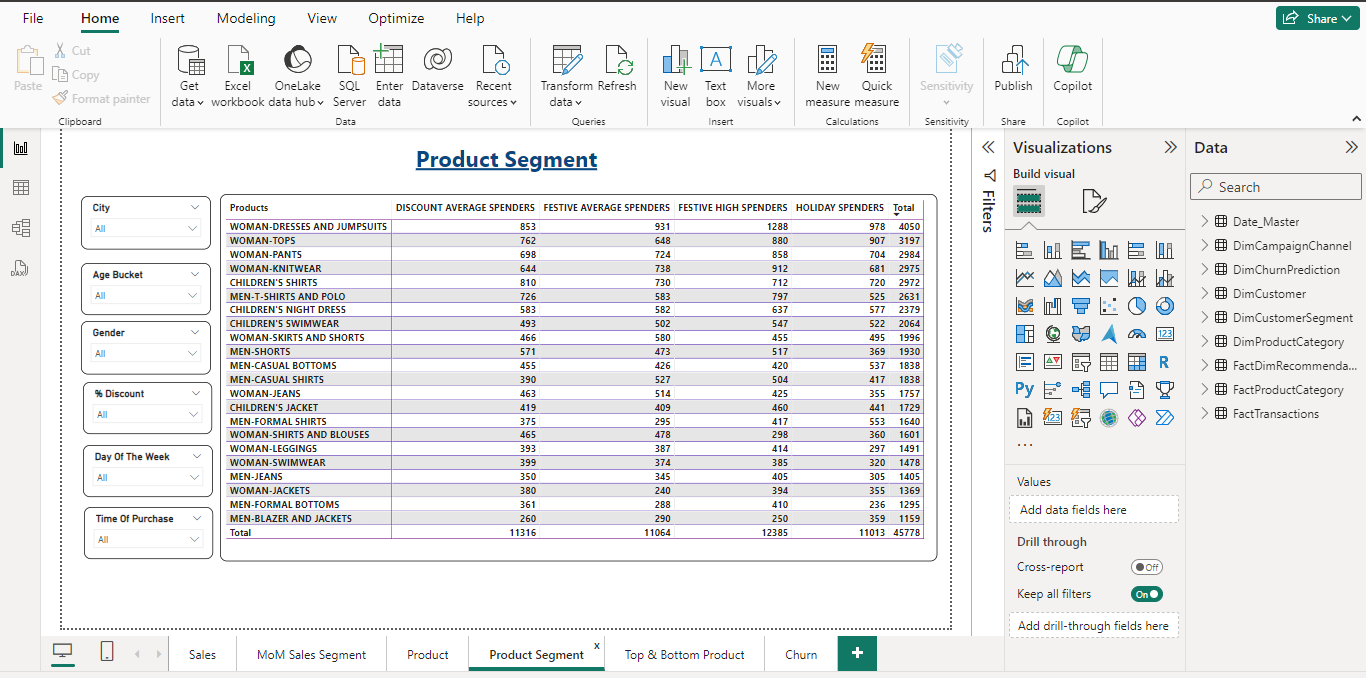

Layout of this report page (visuals, bound fields, positions):
{"tool":"powerbi","page":{"name":"Product Segment","canvas":[1280,720],"ordinal":3},"visuals":[{"type":"pivotTable","fields":{"Columns":["DimCustomerSegment.CUSTOMER SEGMENT"],"Values":["FactProductCategory.Total Product Purchase"],"Rows":["DimProductCategory.Products"]},"box":[227.4,94.5,1033.4,528.5],"z":0},{"type":"slicer","fields":{"Values":["DimCustomer.CITY"]},"box":[28.1,98,187.5,76.8],"z":1000},{"type":"slicer","fields":{"Values":["DimCustomer.Age Bucket"]},"box":[28.1,193.9,187.5,75.3],"z":2000},{"type":"slicer","fields":{"Values":["DimCustomer.GENDER"]},"box":[28.1,278.1,187.5,76.8],"z":3000},{"type":"slicer","fields":{"Values":["DimCustomerSegment.%DISCOUNT"]},"box":[29.5,365.2,186,75.3],"z":4000},{"type":"slicer","fields":{"Values":["DimCustomerSegment.DAY OF THE WEEK"]},"box":[29.5,456.7,187.5,75.3],"z":5000},{"type":"slicer","fields":{"Values":["DimCustomerSegment.TIME OF PURCHASE"]},"box":[31,545.3,186,75.3],"z":6000},{"type":"textbox","box":[437,16.2,407.5,65],"z":7000}]}

Visuals, with their boxes on the page's 1280x720 design canvas (x1, y1, x2, y2). These are canvas units, not pixel positions in the 1366x678 screenshot, which may show the page scaled, cropped or inside an application window:
pivotTable - DimCustomerSegment.CUSTOMER SEGMENT x FactProductCategory.Total Product Purchase: BBox(227, 94, 1261, 623)
slicer - DimCustomer.CITY: BBox(28, 98, 216, 175)
slicer - DimCustomer.Age Bucket: BBox(28, 194, 216, 269)
slicer - DimCustomer.GENDER: BBox(28, 278, 216, 355)
slicer - DimCustomerSegment.%DISCOUNT: BBox(30, 365, 216, 440)
slicer - DimCustomerSegment.DAY OF THE WEEK: BBox(30, 457, 217, 532)
slicer - DimCustomerSegment.TIME OF PURCHASE: BBox(31, 545, 217, 621)
textbox: BBox(437, 16, 844, 81)
